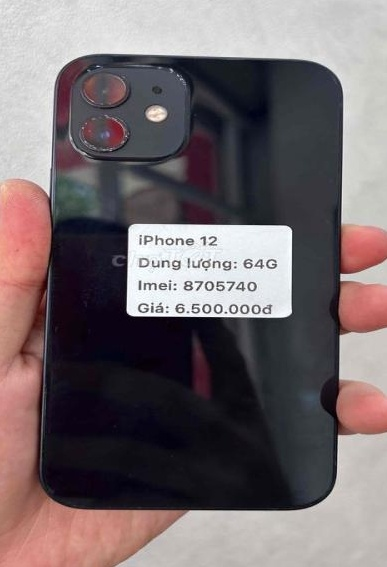scratch: (60, 59, 207, 173)
